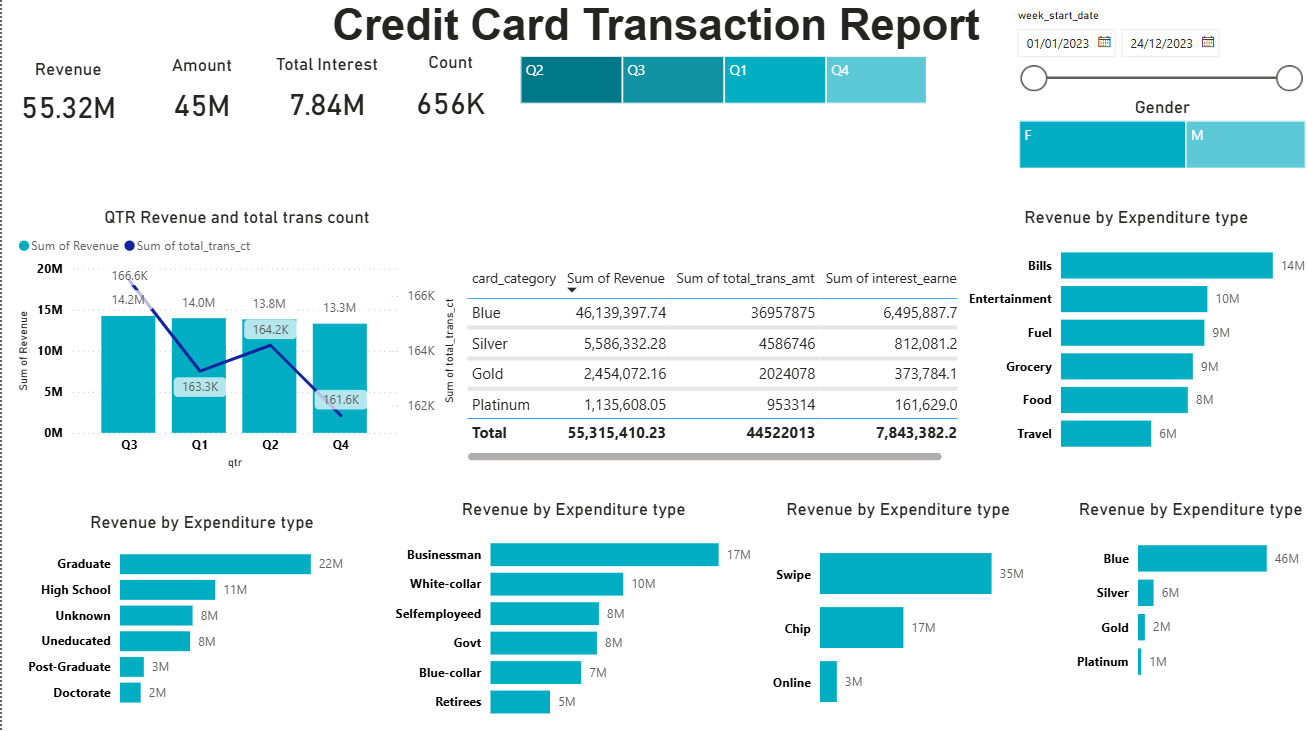

The page's visual inventory and layout, read from the dashboard file:
{"tool":"powerbi","page":{"name":"Page 1","canvas":[1280,720],"ordinal":0},"visuals":[{"type":"textbox","box":[11,0,1269.3,62.4],"z":0},{"type":"lineStackedColumnComboChart","title":"QTR Revenue and total trans count","fields":{"Category":["public cc_detail.qtr"],"Y":["Sum(public cc_detail.Revenue)"],"Y2":["Sum(public cc_detail.total_trans_ct)"]},"box":[11,206.7,437.8,261.7],"z":1000},{"type":"barChart","title":"Revenue by Expenditure type","fields":{"Category":["public cc_detail.exp_type"],"Y":["Sum(public cc_detail.Revenue)"]},"box":[939.1,206.7,341.2,254.3],"z":2000},{"type":"barChart","title":"Revenue by Expenditure type","fields":{"Category":["public cust_detail.education_level"],"Y":["Sum(public cc_detail.Revenue)"]},"box":[19.6,505,352.2,203],"z":3000},{"type":"barChart","title":"Revenue by Expenditure type","fields":{"Category":["public cust_detail.customer_job"],"Y":["Sum(public cc_detail.Revenue)"]},"box":[379.1,492.8,360.7,227.4],"z":4000},{"type":"barChart","title":"Revenue by Expenditure type","fields":{"Category":["public cc_detail.card_category"],"Y":["Sum(public cc_detail.Revenue)"]},"box":[1045.5,492.8,234.8,192],"z":5000},{"type":"barChart","title":"Revenue by Expenditure type","fields":{"Category":["public cc_detail.use_chip"],"Y":["Sum(public cc_detail.Revenue)"]},"box":[748.4,492.8,256.8,227.4],"z":6000},{"type":"tableEx","fields":{"Values":["public cc_detail.card_category","Sum(public cc_detail.Revenue)","Sum(public cc_detail.total_trans_amt)","Sum(public cc_detail.interest_earned)"]},"box":[448.8,259.2,490.4,201.8],"z":7000},{"type":"card","title":"Revenue","fields":{"Values":["Sum(public cc_detail.Revenue)"]},"box":[0,62.4,129.6,72.1],"z":8000},{"type":"card","title":"Amount","fields":{"Values":["Sum(public cc_detail.total_trans_amt)"]},"box":[130.8,58.7,129.6,75.8],"z":9000},{"type":"card","title":"Total Interest","fields":{"Values":["Sum(public cc_detail.interest_earned)"]},"box":[248.2,57.5,139.4,77],"z":10000},{"type":"card","title":"Count","fields":{"Values":["Sum(public cc_detail.total_trans_ct)"]},"box":[375.4,55,127.2,79.5],"z":11000},{"type":"slicer","fields":{"Values":["public cc_detail.week_start_date"]},"box":[980.7,8.6,299.6,106.4],"z":12000},{"type":"treemap","fields":{"Group":["public cc_detail.qtr"],"Values":["CountNonNull(public cc_detail.client_num)"]},"box":[502.6,55,407.2,56.3],"z":13000},{"type":"treemap","title":"Gender","fields":{"Group":["public cust_detail.gender"],"Values":["CountNonNull(public cc_detail.qtr)"]},"box":[990.5,99,289.8,75.8],"z":14000}]}

Visuals, with their boxes in screenshot pixels (x1, y1, x2, y2), scaled from the page's 1280x720 canvas onto the 1308x731 screenshot:
textbox: x1=11, y1=0, x2=1307, y2=63
"QTR Revenue and total trans count" lineStackedColumnComboChart: x1=11, y1=210, x2=459, y2=476
"Revenue by Expenditure type" barChart: x1=960, y1=210, x2=1307, y2=468
"Revenue by Expenditure type" barChart: x1=20, y1=513, x2=380, y2=719
"Revenue by Expenditure type" barChart: x1=387, y1=500, x2=756, y2=730
"Revenue by Expenditure type" barChart: x1=1068, y1=500, x2=1307, y2=695
"Revenue by Expenditure type" barChart: x1=765, y1=500, x2=1027, y2=730
tableEx - public cc_detail.card_category x Sum(public cc_detail.Revenue): x1=459, y1=263, x2=960, y2=468
"Revenue" card: x1=0, y1=63, x2=132, y2=137
"Amount" card: x1=134, y1=60, x2=266, y2=137
"Total Interest" card: x1=254, y1=58, x2=396, y2=137
"Count" card: x1=384, y1=56, x2=514, y2=137
slicer - public cc_detail.week_start_date: x1=1002, y1=9, x2=1307, y2=117
treemap - public cc_detail.qtr x CountNonNull(public cc_detail.client_num): x1=514, y1=56, x2=930, y2=113
"Gender" treemap: x1=1012, y1=101, x2=1307, y2=177
